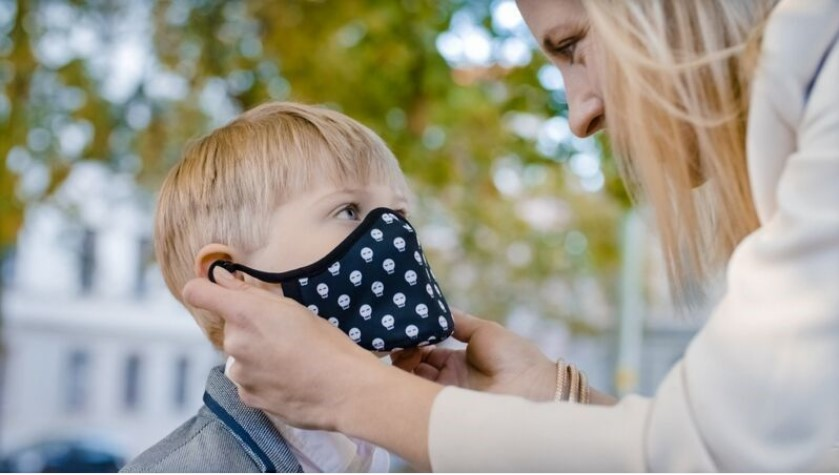face_no_mask: (513, 0, 836, 202)
face_with_mask: (156, 102, 461, 378)
